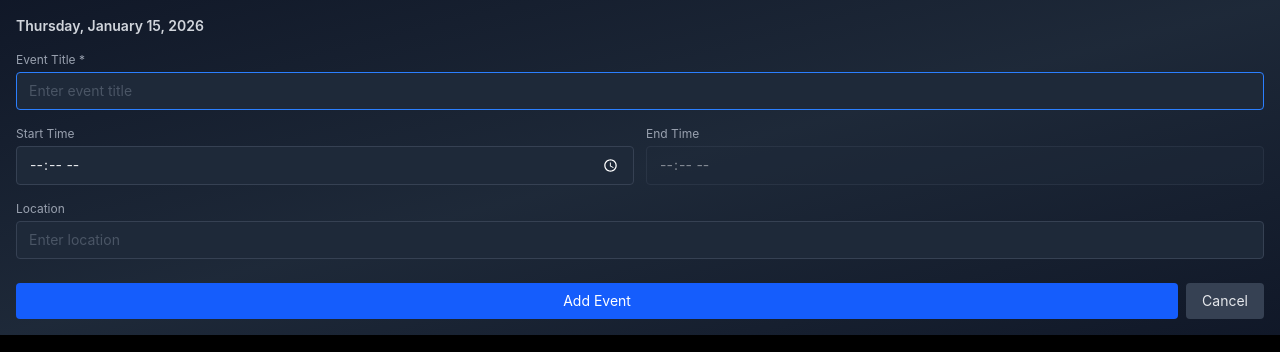
<CalendarEventForm /> › should enable end time when start time is filled
The image size is (1280, 352).
Type "10:00" into the time field labelled "Start Time" at {"x": 325, "y": 165}, box [16,146,634,185]
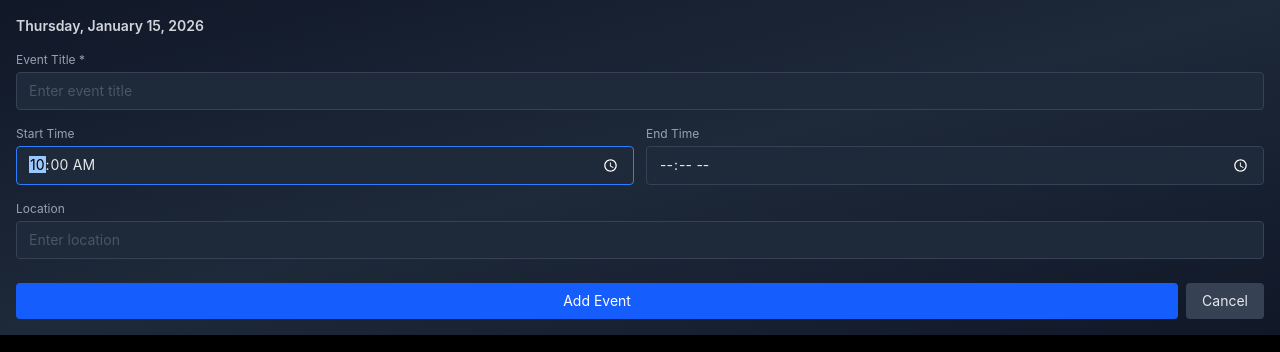
expect the time field labelled "End Time" is enabled: met, box [646,146,1264,185]
